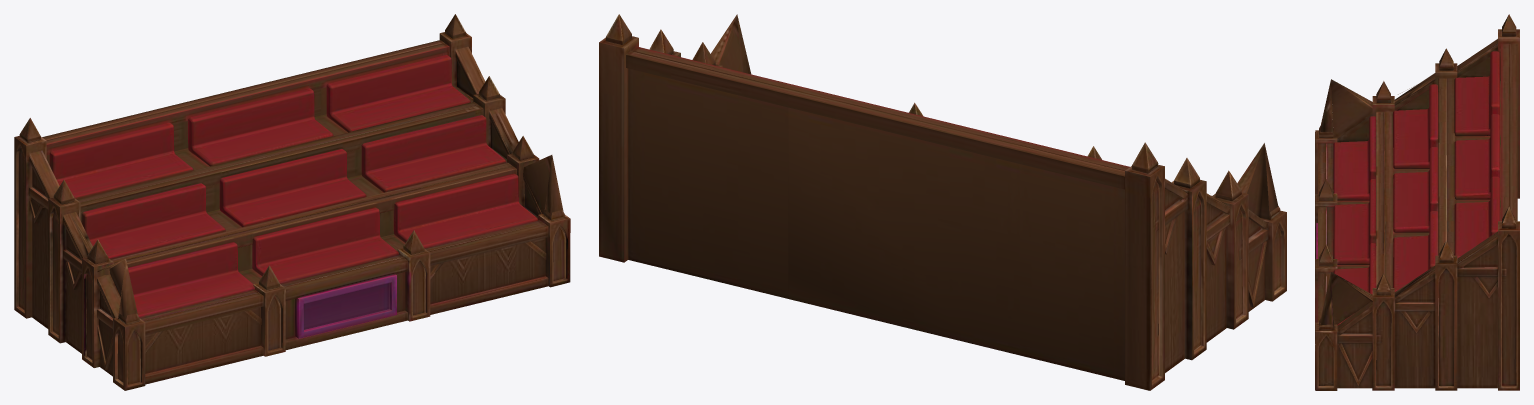
File: mansion_grada.glb
The picture shows the model from 3 angles, left to right: view 1: azimuth 30°, elevation 25°; view 2: azimuth 150°, elevation 25°; view 3: azimuth 270°, elevation 25°; orthographic projection. The views are drawn at different scales.
Parts seen in each view (by area): view 1: tripo_node_10e3661b-d033-4c1c-8177-de831f278860; view 2: tripo_node_10e3661b-d033-4c1c-8177-de831f278860; view 3: tripo_node_10e3661b-d033-4c1c-8177-de831f278860.
Boxes of the visible parts, x1=… form: tripo_node_10e3661b-d033-4c1c-8177-de831f278860: x1=14, y1=14, x2=570, y2=390; tripo_node_10e3661b-d033-4c1c-8177-de831f278860: x1=599, y1=14, x2=1286, y2=390; tripo_node_10e3661b-d033-4c1c-8177-de831f278860: x1=1315, y1=14, x2=1519, y2=390.
Size of the model in its own units: 0.9995 by 0.417 by 0.4299.
1 material, 1 textured.
